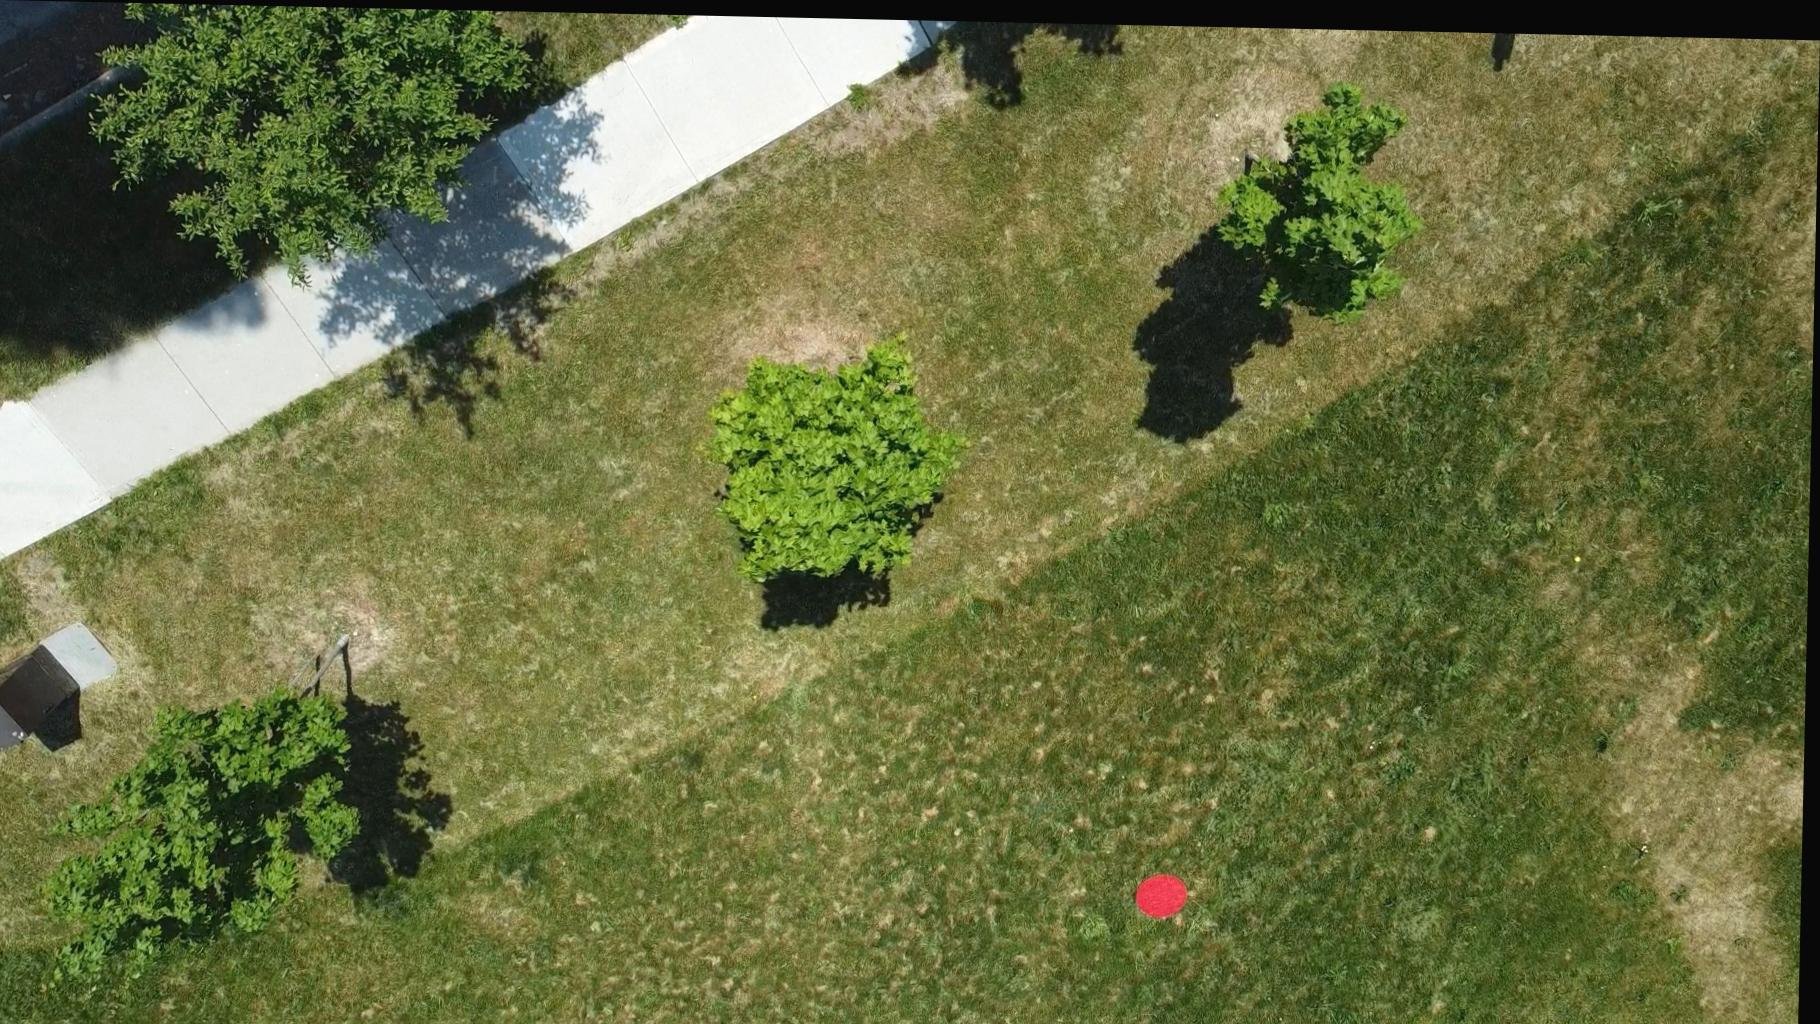Red: (1136, 865, 1194, 915)
